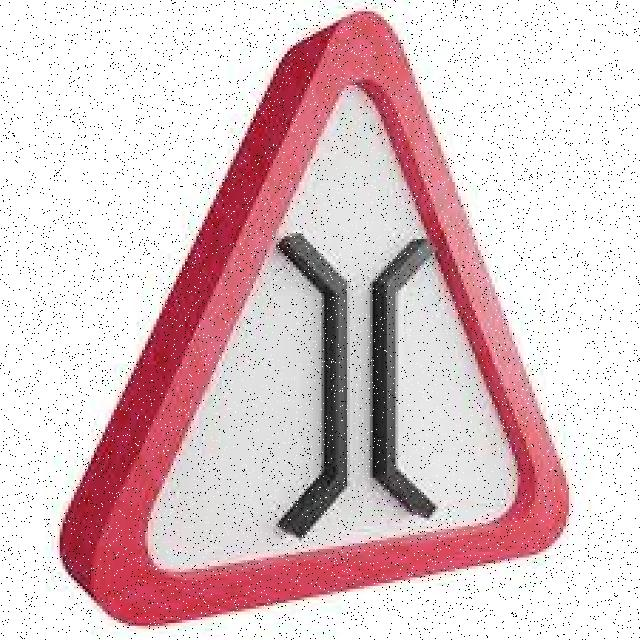Narrow_Bridge: (61, 12, 570, 618)
